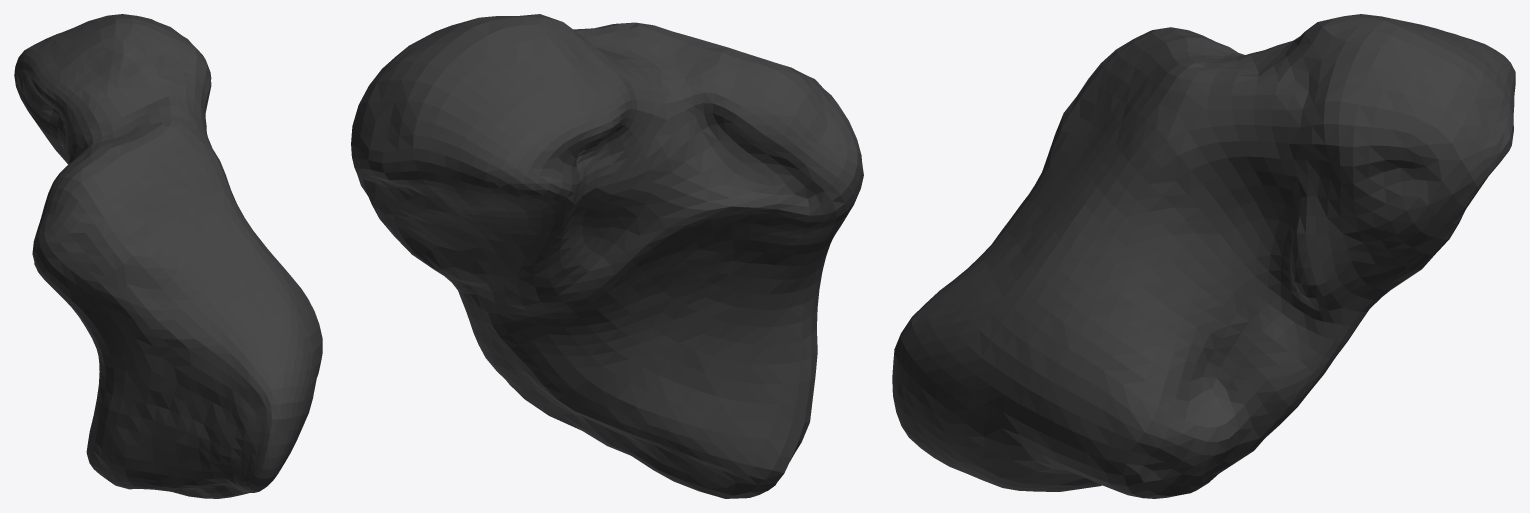
The model's file is Carpal_bone_ulnar.glb.
The picture shows the model from 3 angles, left to right: view 1: azimuth 30°, elevation 25°; view 2: azimuth 150°, elevation 25°; view 3: azimuth 270°, elevation 25°; orthographic projection. The views are drawn at different scales.
Parts seen in each view (by area): view 1: Carpal_bone_ulnar; view 2: Carpal_bone_ulnar; view 3: Carpal_bone_ulnar.
Boxes of the visible parts, x1,y1,x2,y2 form: Carpal_bone_ulnar: (14, 14, 322, 498); Carpal_bone_ulnar: (351, 14, 863, 498); Carpal_bone_ulnar: (892, 14, 1515, 498).
Size of the model in its own units: 0.1597 by 0.2127 by 0.2401.
1 material, 1 textured.
